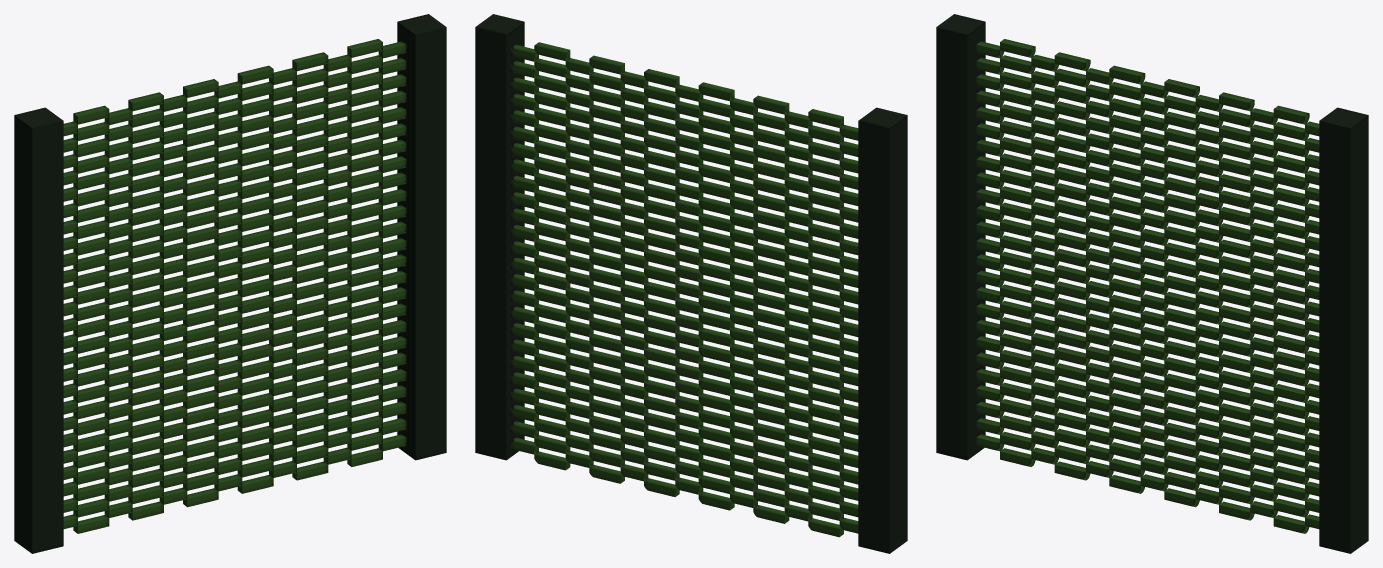
File: plotek_siatka_ziel_1.dae
3 renders of one model, left to right at view 1: azimuth 30°, elevation 25°; view 2: azimuth 150°, elevation 25°; view 3: azimuth 330°, elevation 25°, orthographic.
Parts seen in each view (by area): view 1: Content; view 2: Content; view 3: Content.
Boxes of the visible parts, x1,y1,x2,y2 form: Content: [14, 14, 446, 553]; Content: [475, 14, 907, 553]; Content: [936, 14, 1368, 553].
Bounding box in the file's own units: 53 × 52 × 4.
Materials: 1 (1 with a texture image).
